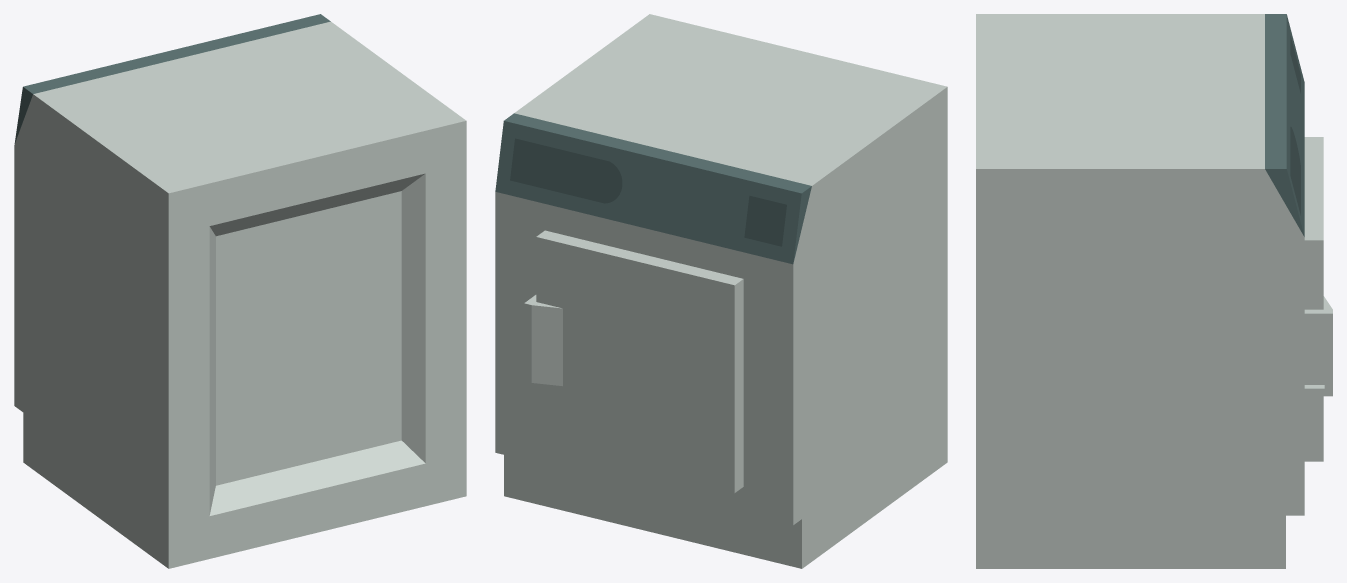
Rendered from dryer.dae.
3 renders of one model, left to right at view 1: azimuth 30°, elevation 25°; view 2: azimuth 150°, elevation 25°; view 3: azimuth 270°, elevation 25°, orthographic. The views are drawn at different scales.
Visible parts, largest first — view 1: dryer; view 2: dryer, dryerDoor; view 3: dryer, dryerDoor.
Part boxes in pixels (x1,y1,x2,y2): dryer: (14,14,466,568); dryer: (495,14,947,568); dryerDoor: (524,230,743,492); dryer: (976,14,1304,568); dryerDoor: (1304,137,1332,461).
Size of the model in its own units: 0.39 by 0.47 by 0.38.
